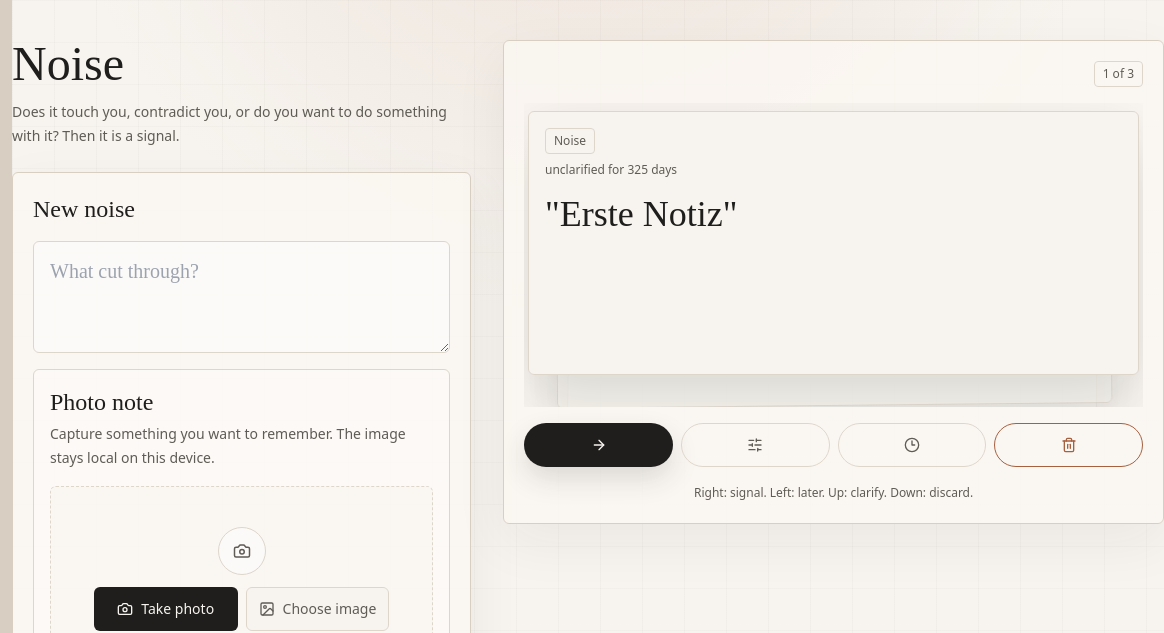
Test: InboxPage › Details › klappt die Details über dieselbe Taste wieder zu
The width and height of the screenshot is (1164, 633).
Expected: the text "\"Erste Notiz\"" is shown, [545,194,738,234]
Click the button named "Clarify" at (755, 445), box [681,423,830,467]
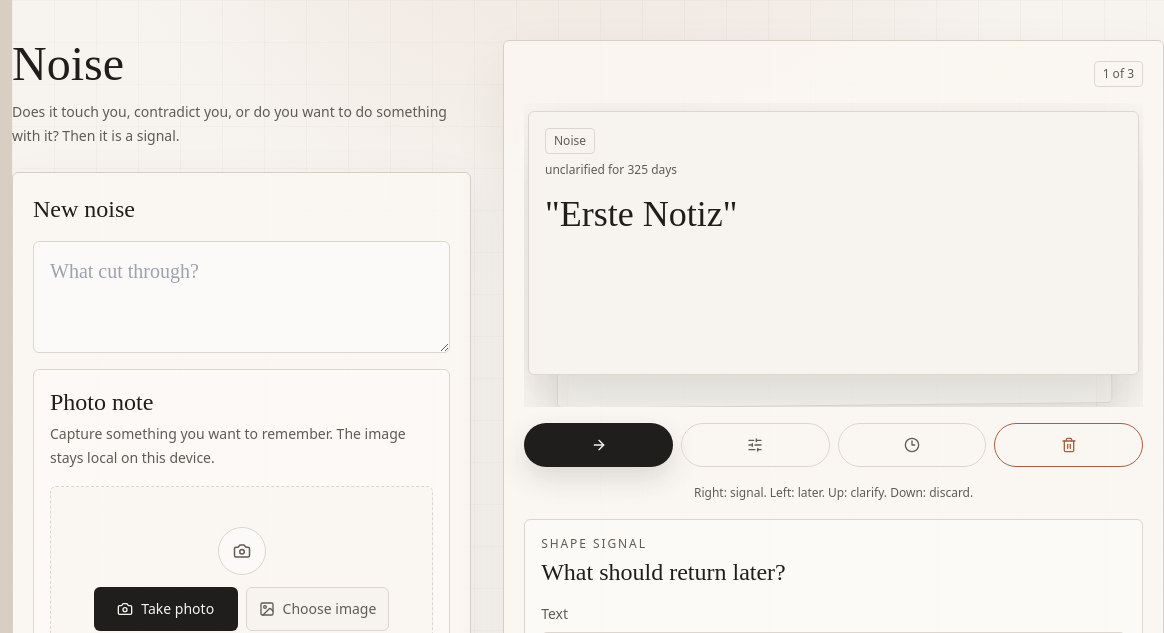
Click the button named "Clarify" at (755, 445), box [681,423,830,467]
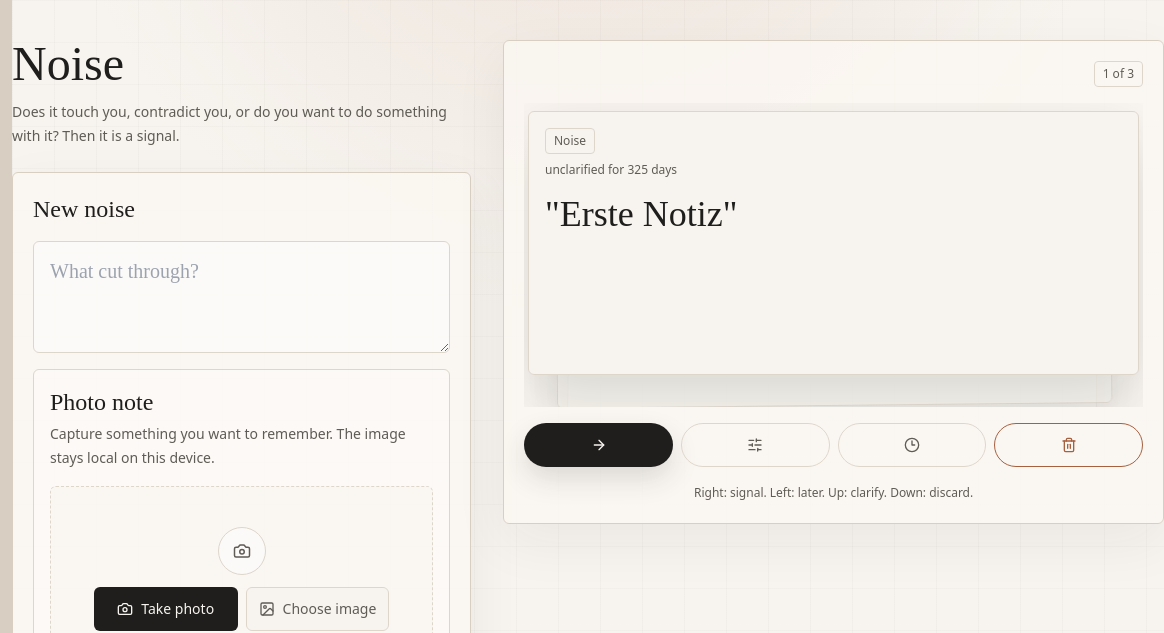
Expected: the text labelled "Text" is gone
